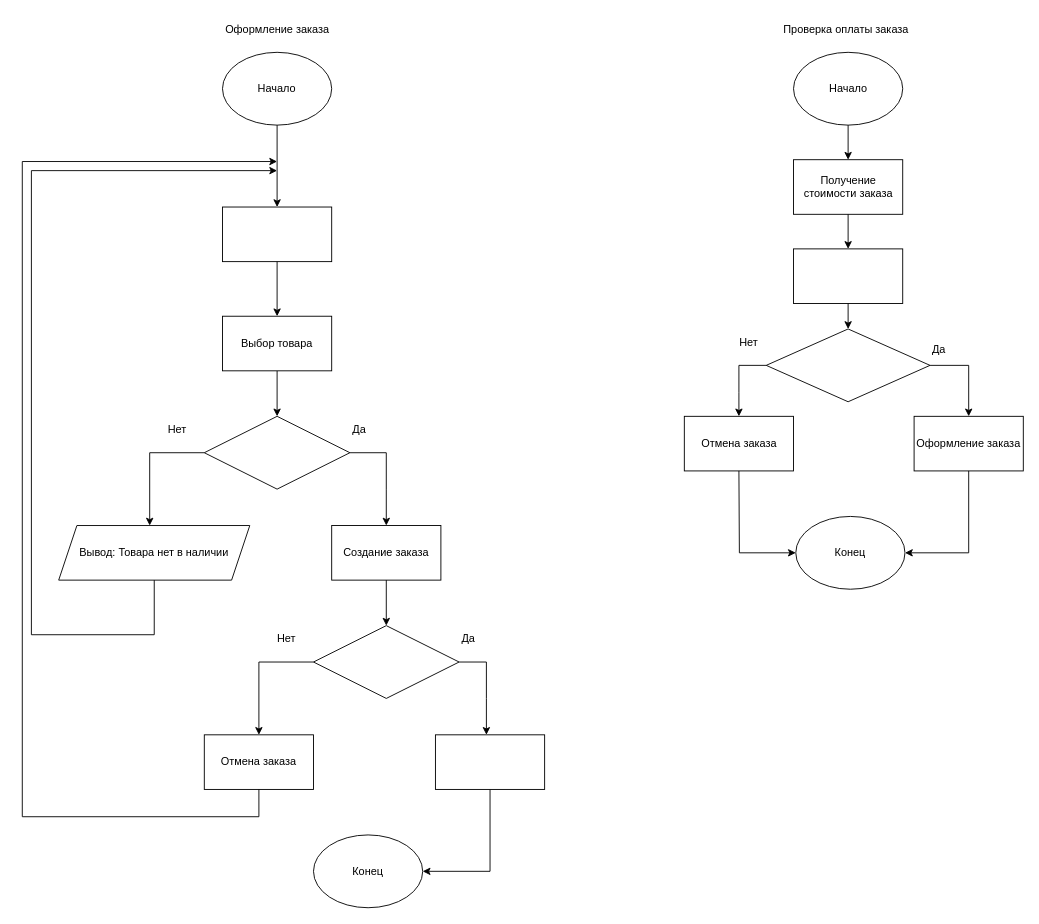
Some shapes in this 1039 by 924 pixel diagram are drawn without their labels. Each missing label, with the centre of its shape:
"Оплата прошла успешно?" belongs at (x=847, y=365).
"Подтвердить заказ?" belongs at (x=386, y=661).
"Попытка списания оплаты со счёта пользователя" belongs at (x=848, y=275).
"Просмотр каталога товаров" belongs at (x=277, y=234).
"Сохранение заказа в системе" belongs at (x=490, y=761).
"Товар есть в наличии?" belongs at (x=276, y=452).
